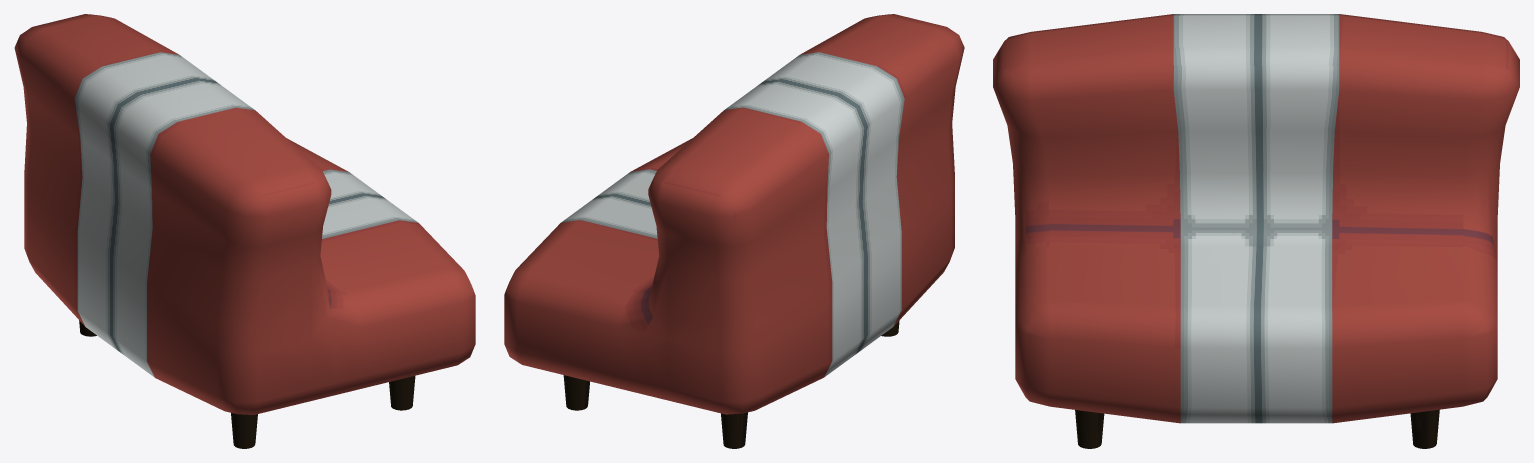
Rendered from Sofa.fbx.
3 renders of one model, left to right at view 1: azimuth 30°, elevation 25°; view 2: azimuth 150°, elevation 25°; view 3: azimuth 270°, elevation 25°, orthographic. The views are drawn at different scales.
Parts seen in each view (by area): view 1: Cube, Cube.001; view 2: Cube, Cube.001; view 3: Cube, Cube.001.
Part boxes in pixels (box(x1,y1,x2,y2)): Cube: box(14, 14, 475, 414); Cube.001: box(79, 320, 415, 448); Cube: box(504, 14, 964, 414); Cube.001: box(563, 320, 899, 448); Cube: box(993, 14, 1519, 423); Cube.001: box(1075, 409, 1439, 448).
Bounding box in the file's own units: 543 × 559 × 811.
Materials: 2 (2 with a texture image).
